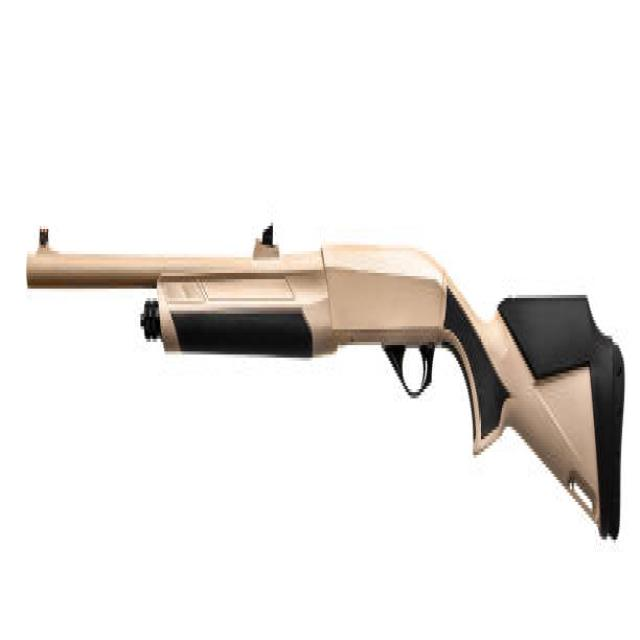rifle: (21, 212, 629, 563)
